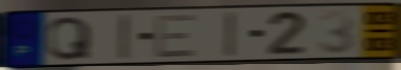2: (266, 9, 311, 57)
3: (318, 8, 357, 55)
E: (152, 12, 198, 59)
I: (118, 13, 132, 62), (224, 10, 238, 59)
Q: (45, 15, 94, 62)
